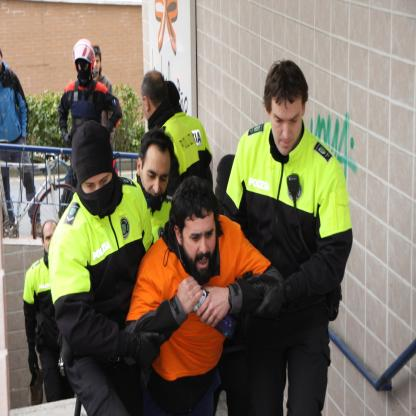Helmet: (66, 40, 96, 84)
